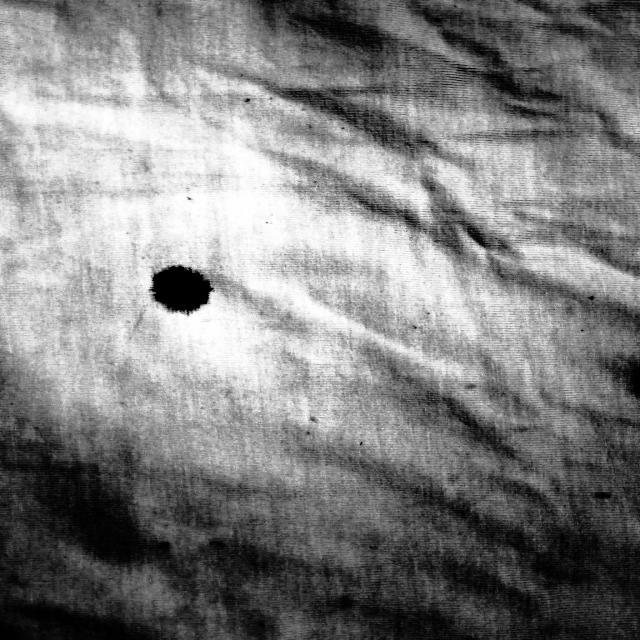Color_defect: (142, 250, 212, 324)
